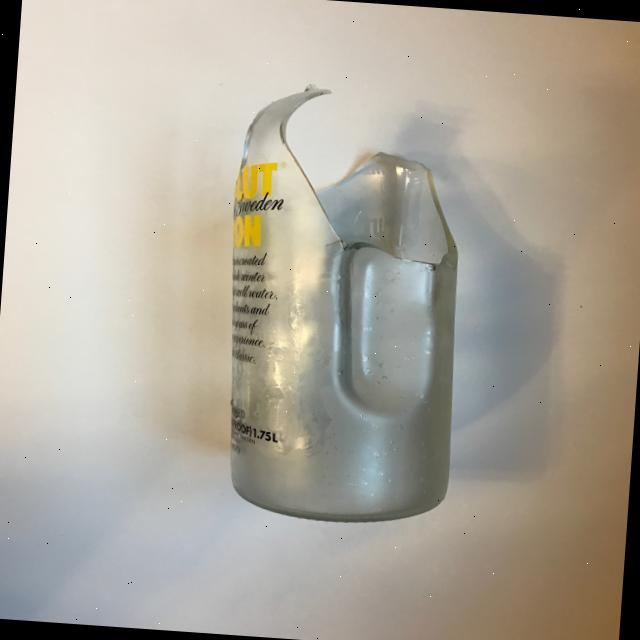glass: (210, 79, 476, 529)
